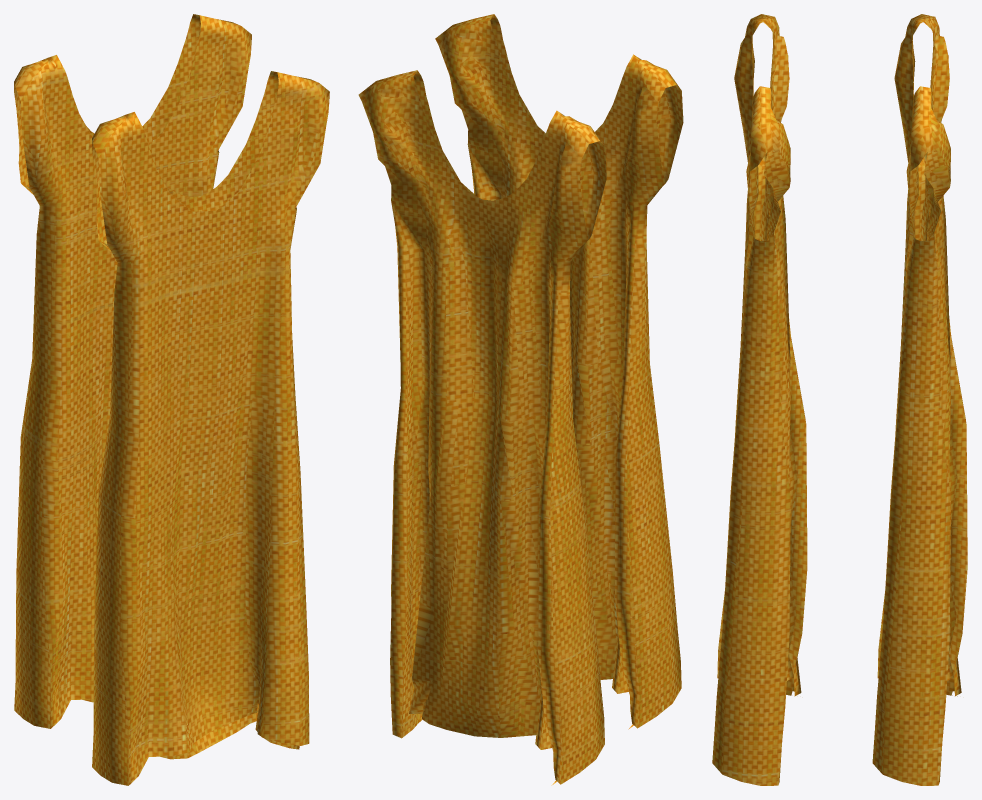
Rendered from yifu11_01.fbx.
3 views of the same model, side by side, from view 1: azimuth 30°, elevation 25°; view 2: azimuth 150°, elevation 25°; view 3: azimuth 270°, elevation 25° (orthographic). The views are drawn at different scales.
Parts seen in each view (by area): view 1: yifu11_01; view 2: yifu11_01; view 3: yifu11_01.
Part boxes in pixels (x1,y1,x2,y2): yifu11_01: (14,14,329,785); yifu11_01: (358,14,683,785); yifu11_01: (712,14,967,785).
Bounding box in the file's own units: 49.7 × 133 × 44.32.
